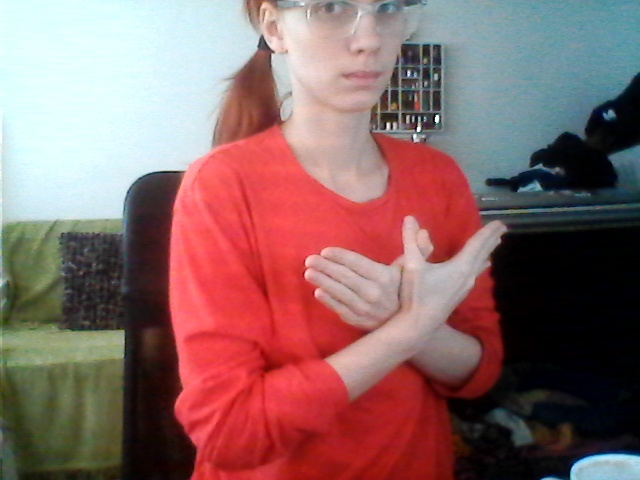lekar: (296, 196, 516, 376)
